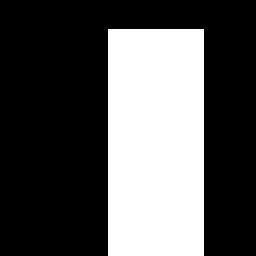person: (108, 29, 203, 255)
